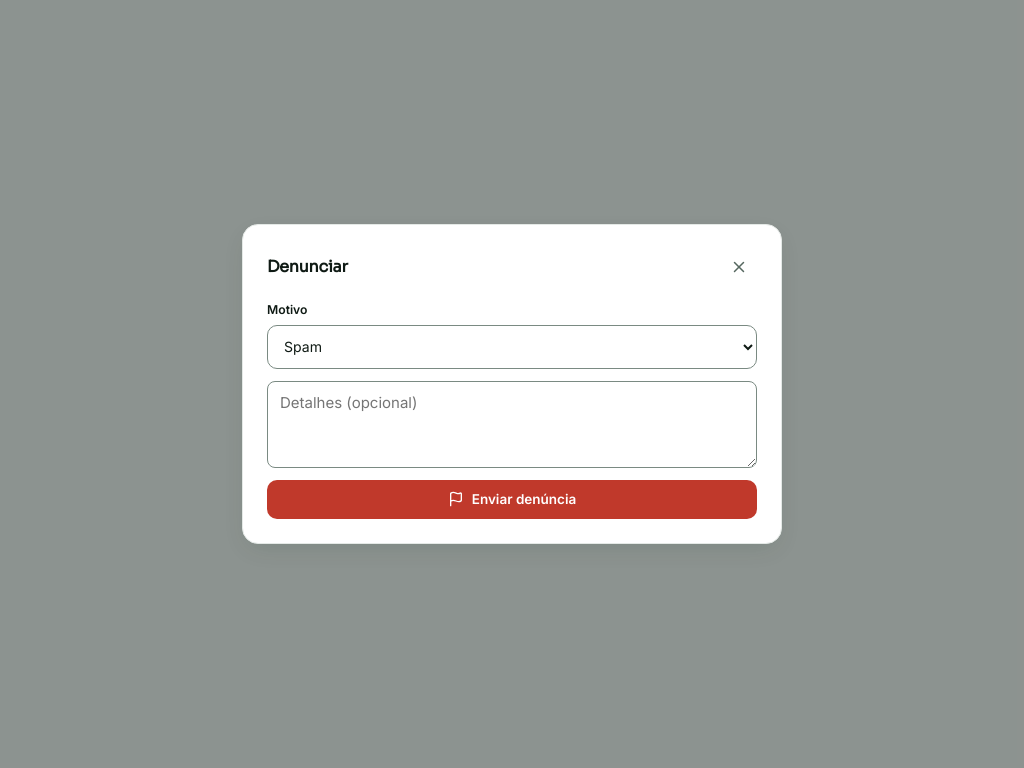
it: denúncia de um alvo só › o motivo escolhido e os detalhes vão para a API, sem os espaços das pontas
Select "Tenta negociar fora da plataforma" in the dropdown labelled "Motivo" at (512, 347), box [267,325,757,369]
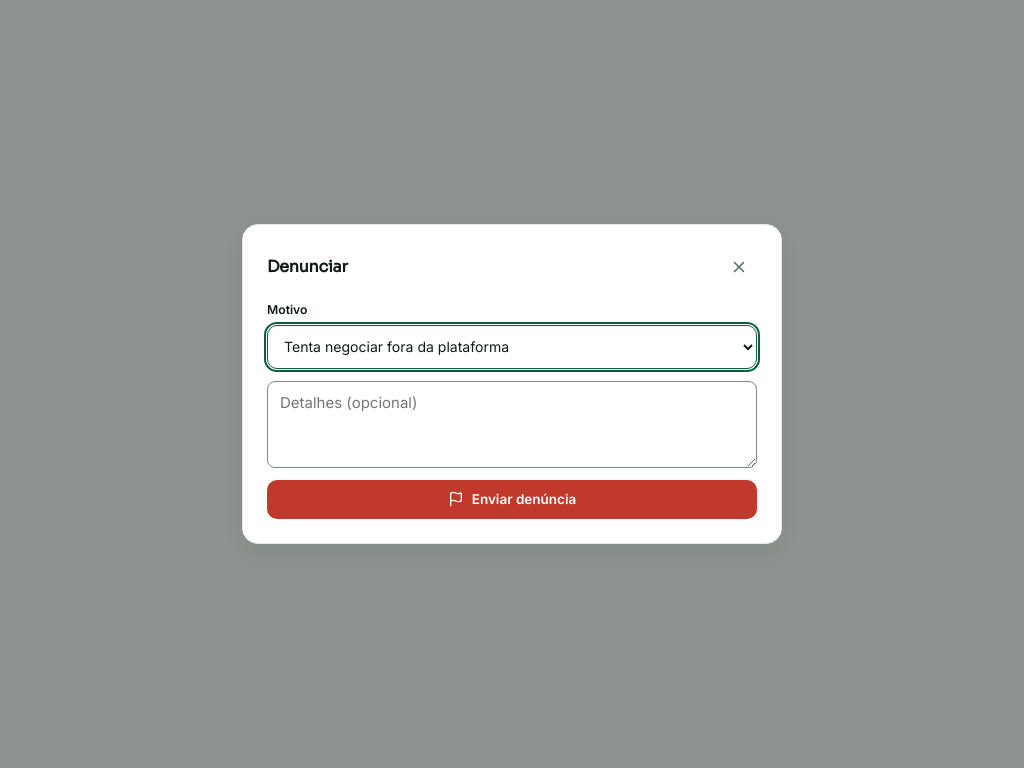
Click the text box named "Detalhes da denúncia" at (512, 424), box [267,381,757,468]
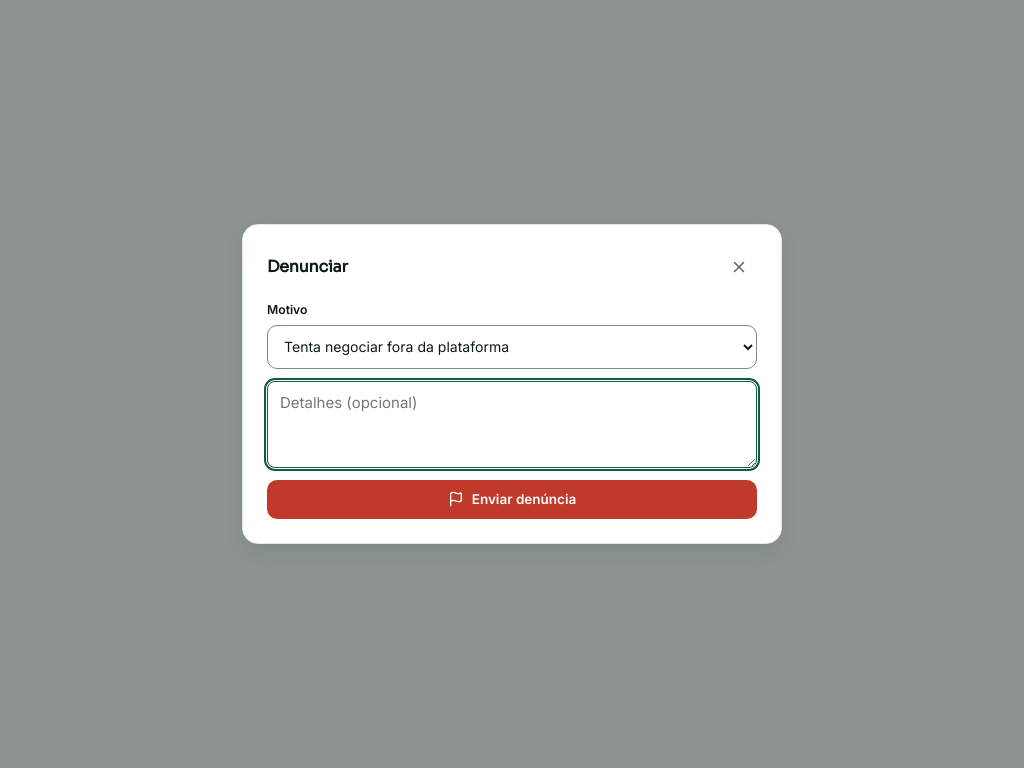
Type keys "  Pediu para pagar por fora  "
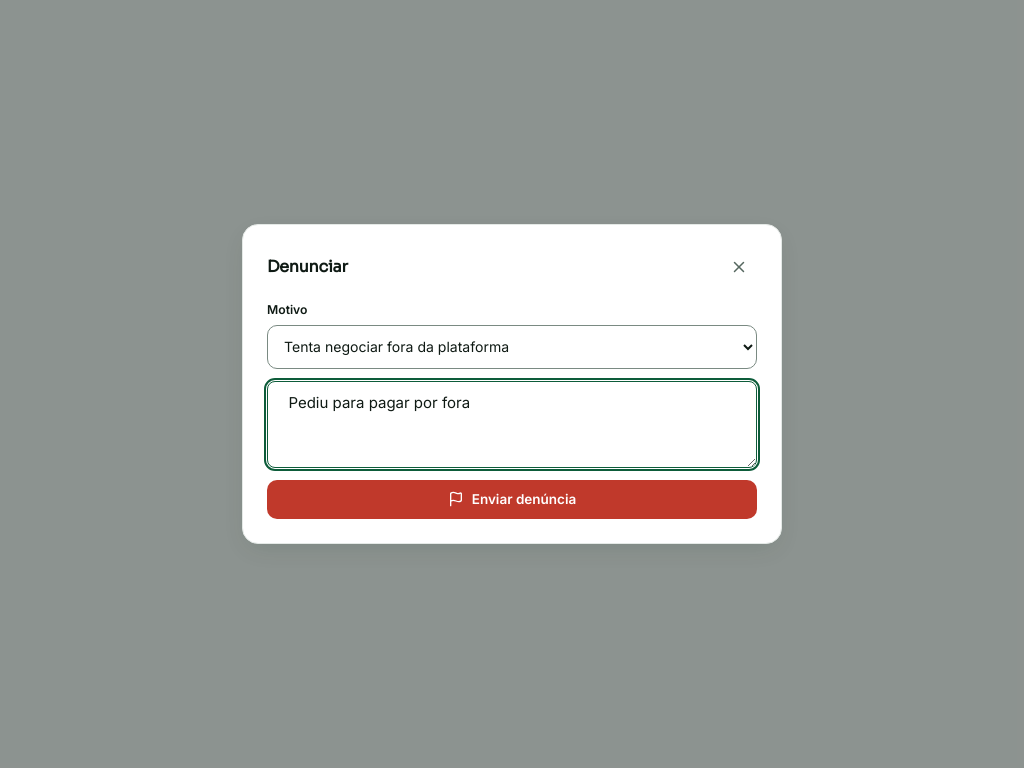
Click the button "Enviar denúncia" at (512, 499), box [267,480,757,519]
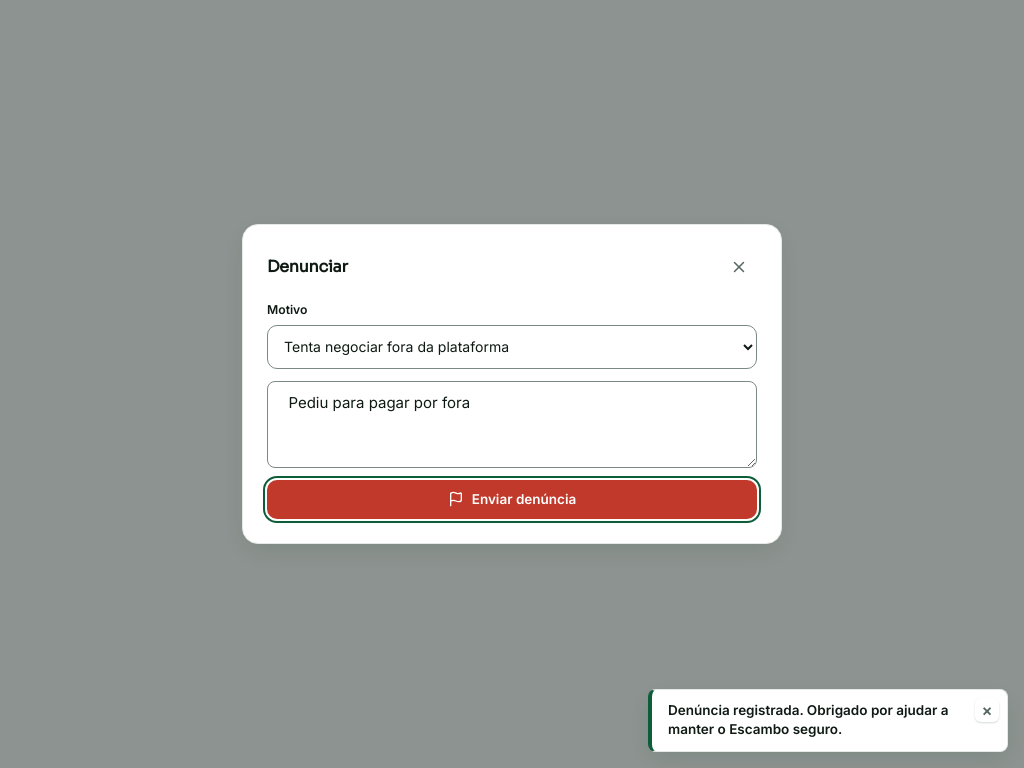
Check: the text "Denúncia registrada. Obrigado por ajudar a manter o Escambo seguro." is shown, box [668,701,967,740]
